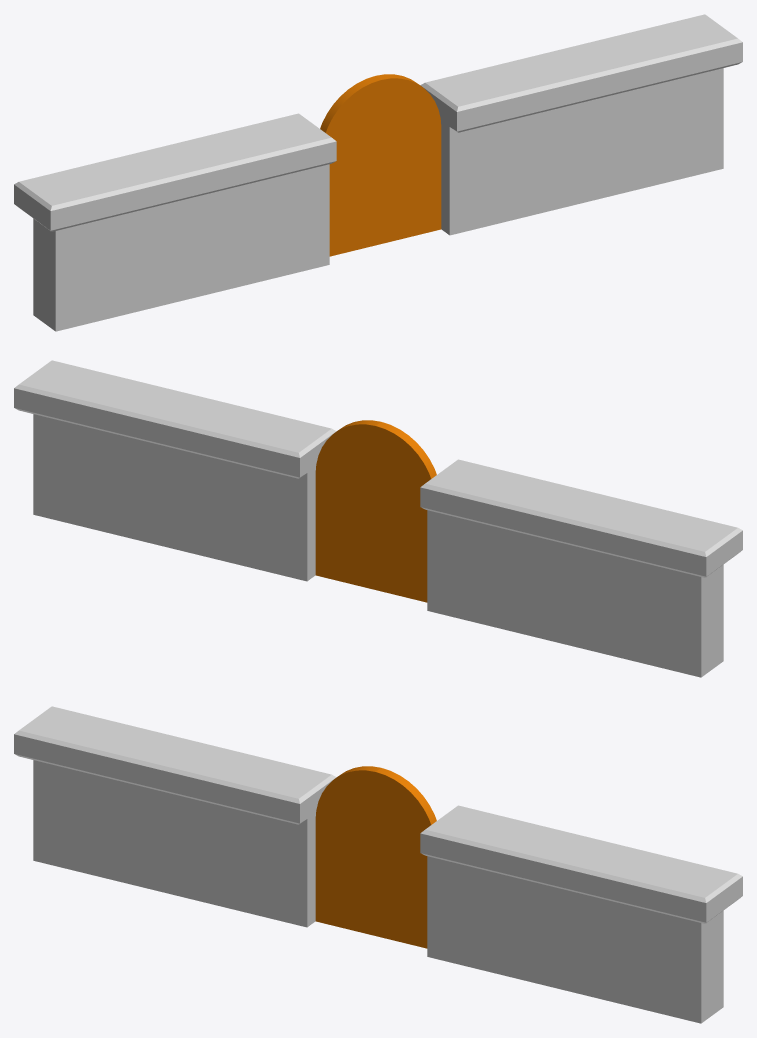
Rendered from Barricade_Wall_And_Door.fbx.
The picture shows the model from 3 angles, top to bottom: view 1: azimuth 30°, elevation 25°; view 2: azimuth 150°, elevation 25°; view 3: azimuth 330°, elevation 25°; orthographic projection.
Visible parts, largest first — view 1: pCube21, pCube22; view 2: pCube21, pCube22; view 3: pCube21, pCube22.
Boxes of the visible parts, x1,y1,x2,y2 form: pCube21: [14, 14, 742, 331]; pCube22: [320, 74, 441, 256]; pCube21: [14, 360, 742, 677]; pCube22: [315, 420, 436, 602]; pCube21: [14, 706, 742, 1023]; pCube22: [315, 766, 436, 948].
Bounding box in the file's own units: 18.94 × 4.29 × 1.73.
2 materials, 2 textured.
